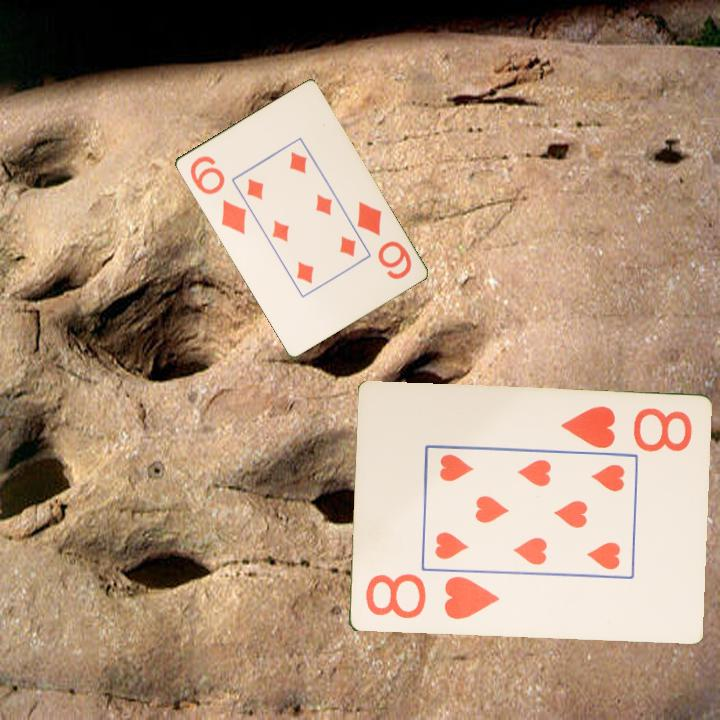6d: (186, 152, 249, 237), (353, 197, 414, 282)
8h: (361, 571, 502, 623), (557, 403, 695, 455)
